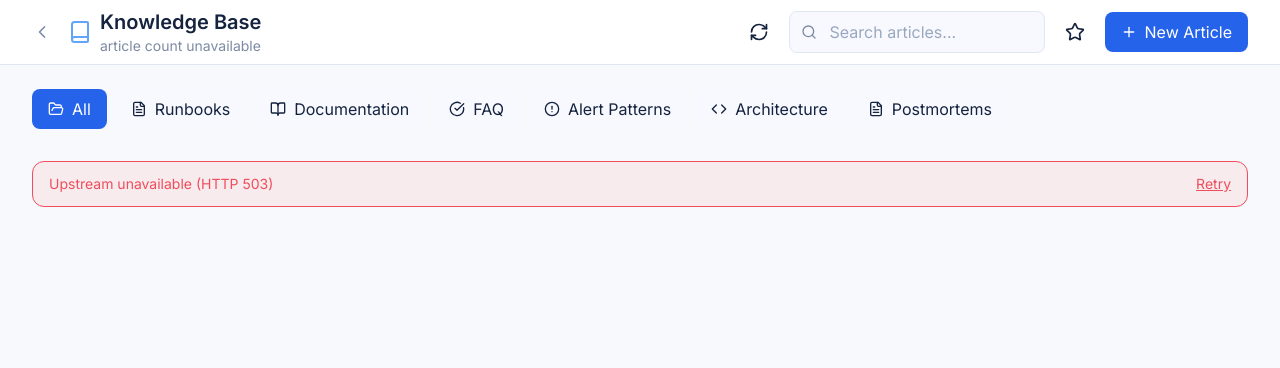
Scenario: KnowledgeBase › retries the load from the error banner
Expected: the message "Upstream unavailable (HTTP 503) Retry" is shown, [32,161,1248,207]
Click the button "Retry": (1214, 184) [1196,174,1231,194]
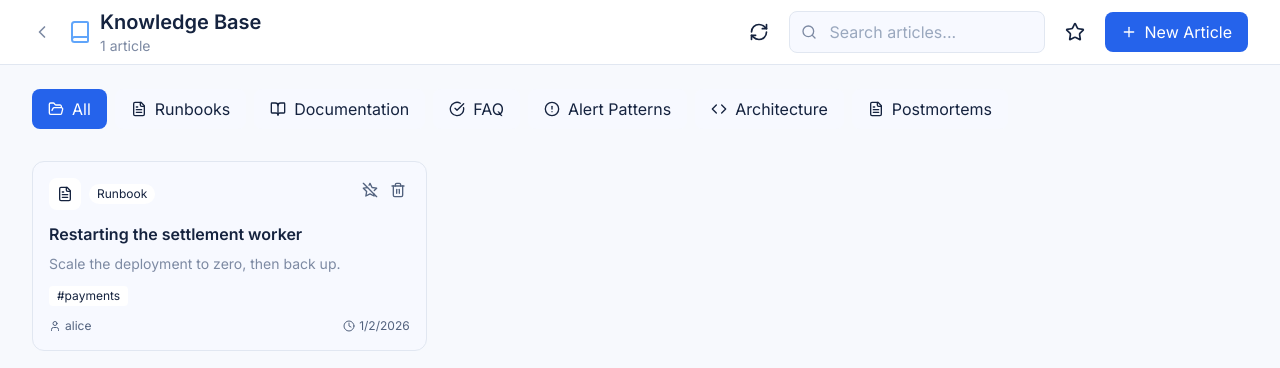
Expected: the heading "Restarting the settlement worker" is shown, [49,224,302,244]
